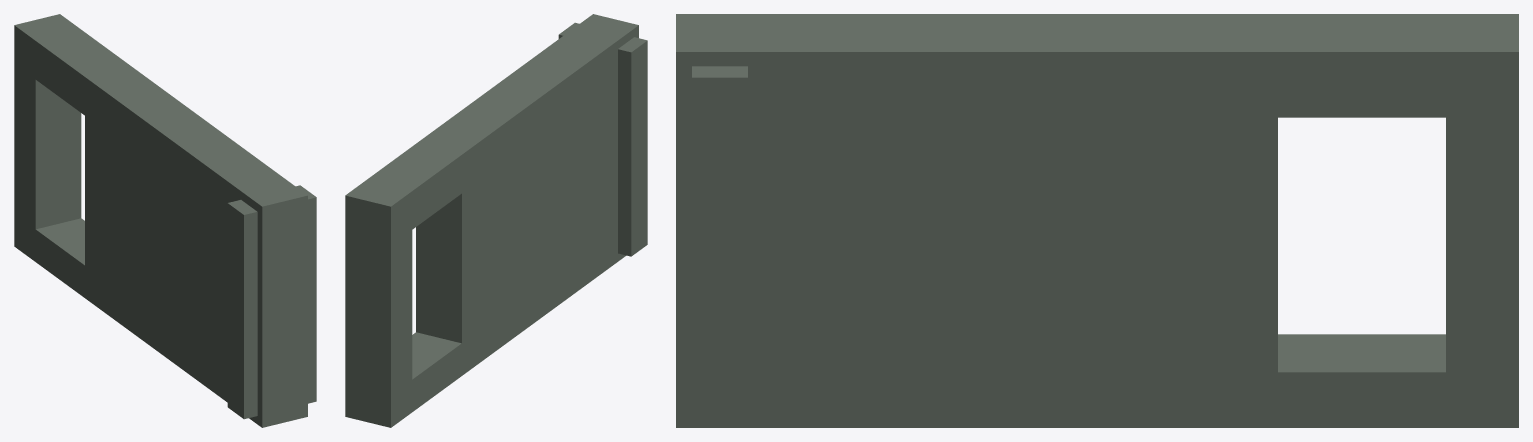
File: SM_metal_support_03.fbx
3 renders of one model, left to right at view 1: azimuth 30°, elevation 25°; view 2: azimuth 150°, elevation 25°; view 3: azimuth 270°, elevation 25°, orthographic. The views are drawn at different scales.
Visible parts, largest first — view 1: metal_support_03; view 2: metal_support_03; view 3: metal_support_03.
Part boxes in pixels (x1,y1,x2,y2): metal_support_03: (14,14,316,427); metal_support_03: (345,14,647,427); metal_support_03: (676,14,1518,427).
Bounding box in the file's own units: 15.98 × 46.45 × 94.35.
